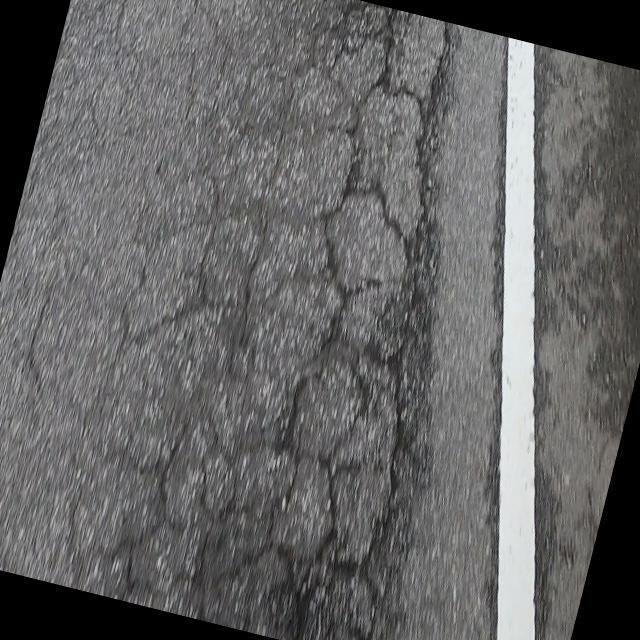Retak-Buaya: (64, 0, 453, 640)
